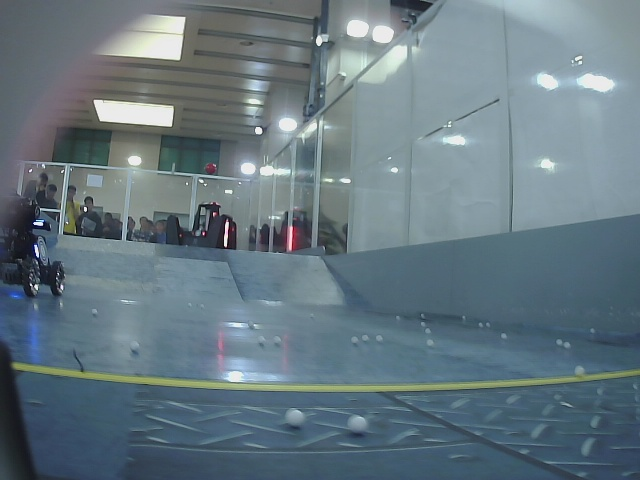lamp: (31, 244, 42, 259)
